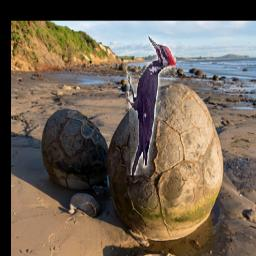Woodpecker: (126, 35, 176, 175)
